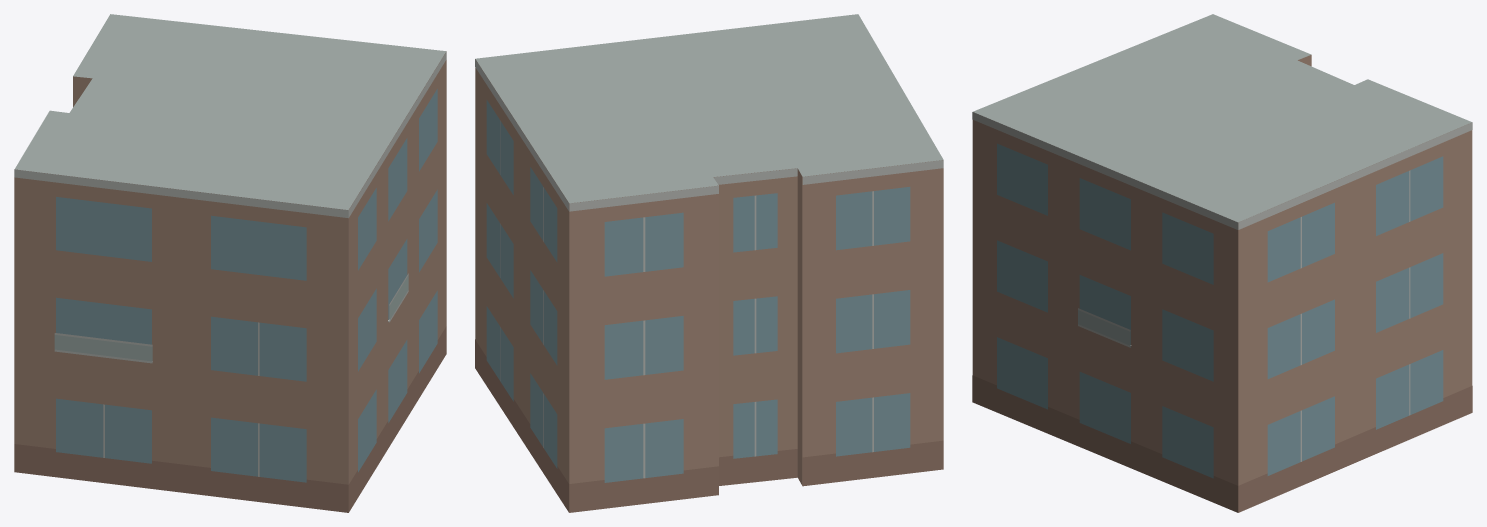
The model's file is survey-upis-33003122.glb.
3 renders of one model, left to right at view 1: azimuth 30°, elevation 25°; view 2: azimuth 150°, elevation 25°; view 3: azimuth 270°, elevation 25°, orthographic. The views are drawn at different scales.
Parts seen in each view (by area): view 1: survey-upis-33003122.tmp; view 2: survey-upis-33003122.tmp; view 3: survey-upis-33003122.tmp.
Part boxes in pixels (left/top/right/bottom): survey-upis-33003122.tmp: left=14, top=14, right=446, bottom=512; survey-upis-33003122.tmp: left=475, top=14, right=943, bottom=512; survey-upis-33003122.tmp: left=972, top=14, right=1472, bottom=512.
Bounding box in the file's own units: 14.09 × 9.15 × 14.28.
